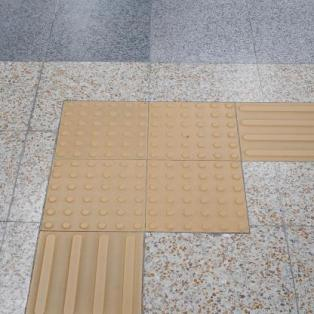Podoctatil: (19, 92, 313, 314)
